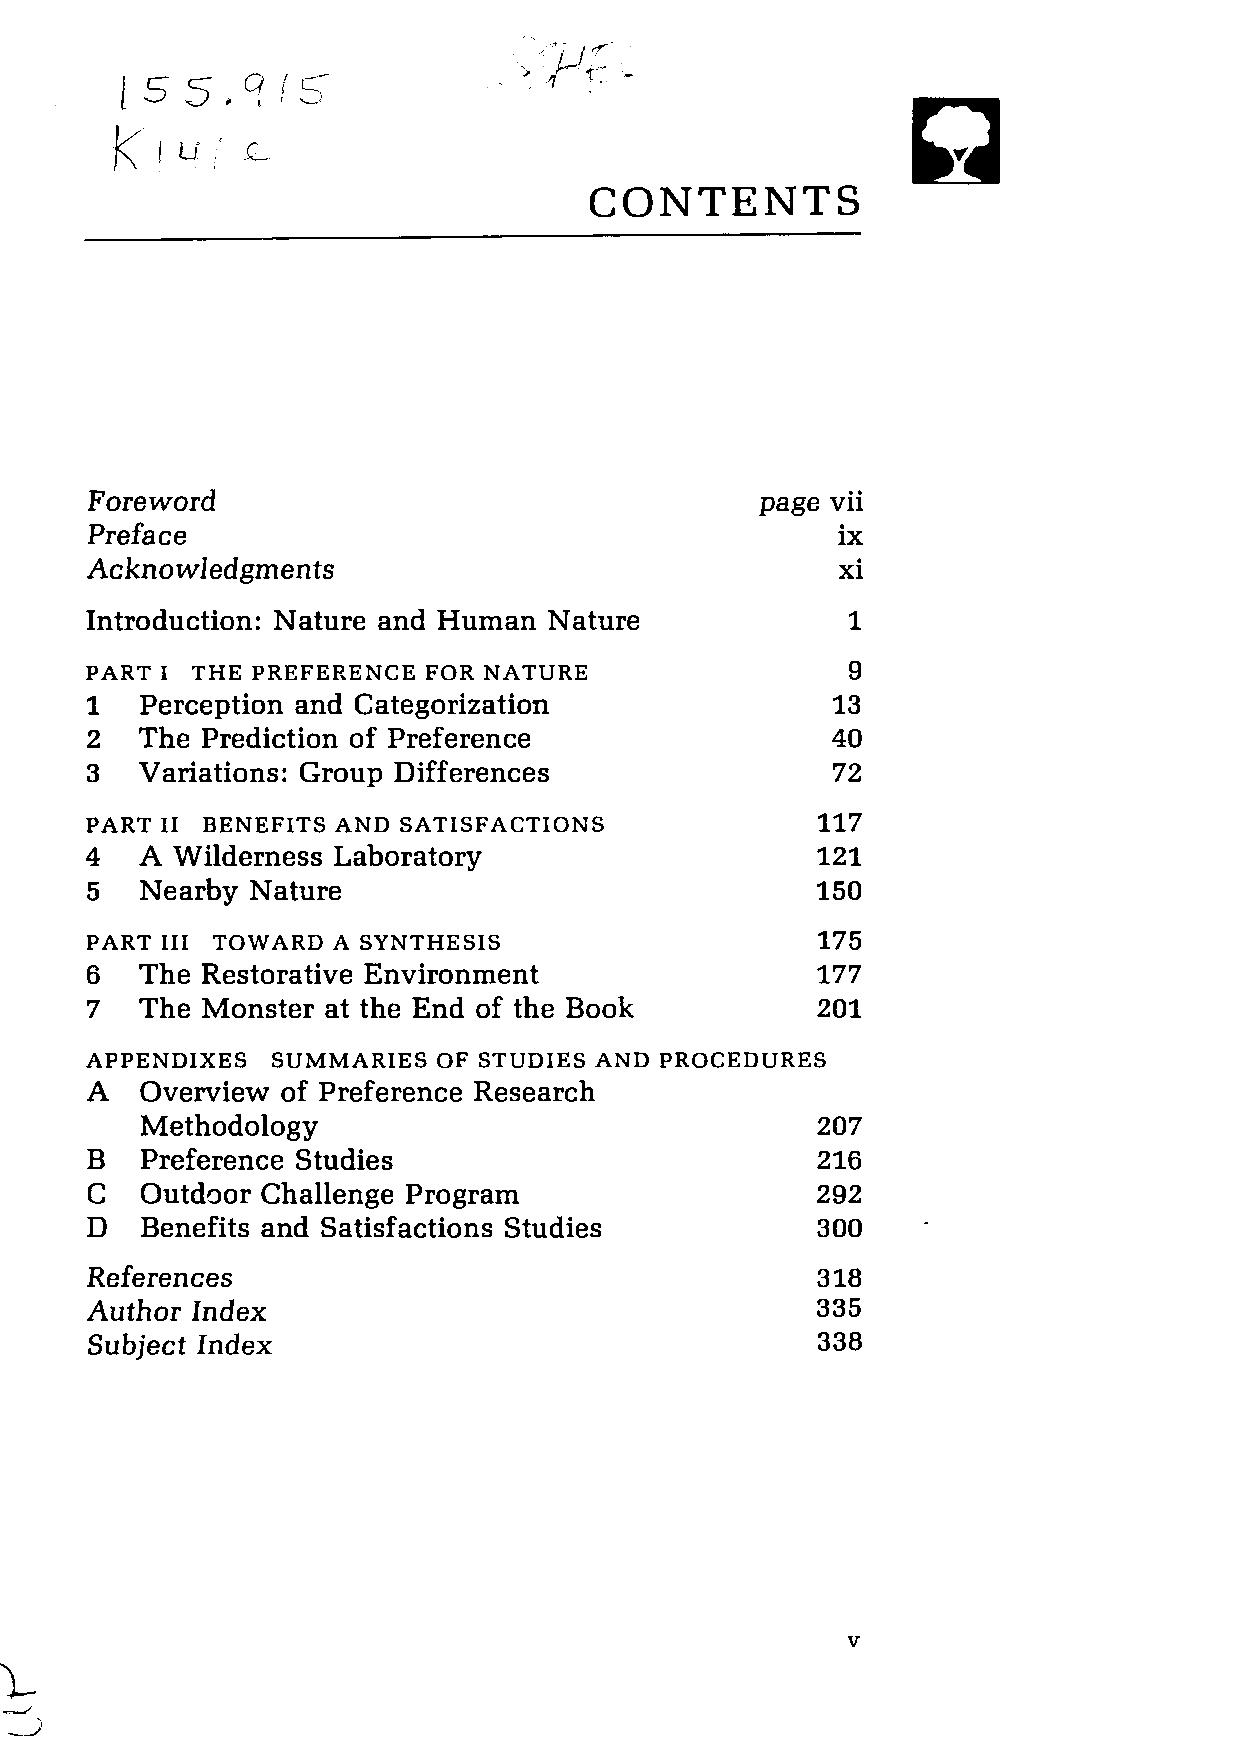TOC_chapter: (76, 1076, 600, 1139), (76, 1043, 829, 1070), (81, 604, 640, 633), (85, 990, 640, 1020), (85, 1212, 609, 1241), (82, 691, 562, 722), (79, 757, 553, 788), (76, 1177, 519, 1208), (81, 960, 545, 986), (76, 811, 604, 833), (89, 841, 478, 872), (81, 660, 596, 680), (83, 929, 501, 953), (85, 727, 539, 749), (81, 1143, 395, 1173), (85, 875, 346, 905), (83, 553, 338, 582), (85, 1330, 275, 1362), (85, 1296, 276, 1325), (85, 1263, 242, 1291), (86, 484, 227, 514), (85, 521, 188, 548)
TOC_pagenumber: (812, 871, 863, 900), (813, 994, 871, 1020), (813, 1215, 868, 1240), (813, 841, 864, 868), (827, 480, 866, 515), (815, 960, 862, 986), (816, 1147, 866, 1172), (819, 1180, 866, 1204), (815, 1329, 864, 1351), (817, 1294, 860, 1319), (816, 927, 863, 950), (816, 811, 862, 833), (816, 1266, 864, 1287), (829, 688, 866, 717), (817, 1114, 864, 1135), (829, 721, 866, 747), (831, 757, 864, 782), (836, 557, 870, 581), (837, 518, 862, 548), (845, 604, 866, 633), (843, 658, 862, 679)
chapter: (586, 181, 864, 217)
content_pagenumber: (843, 1632, 870, 1652)
